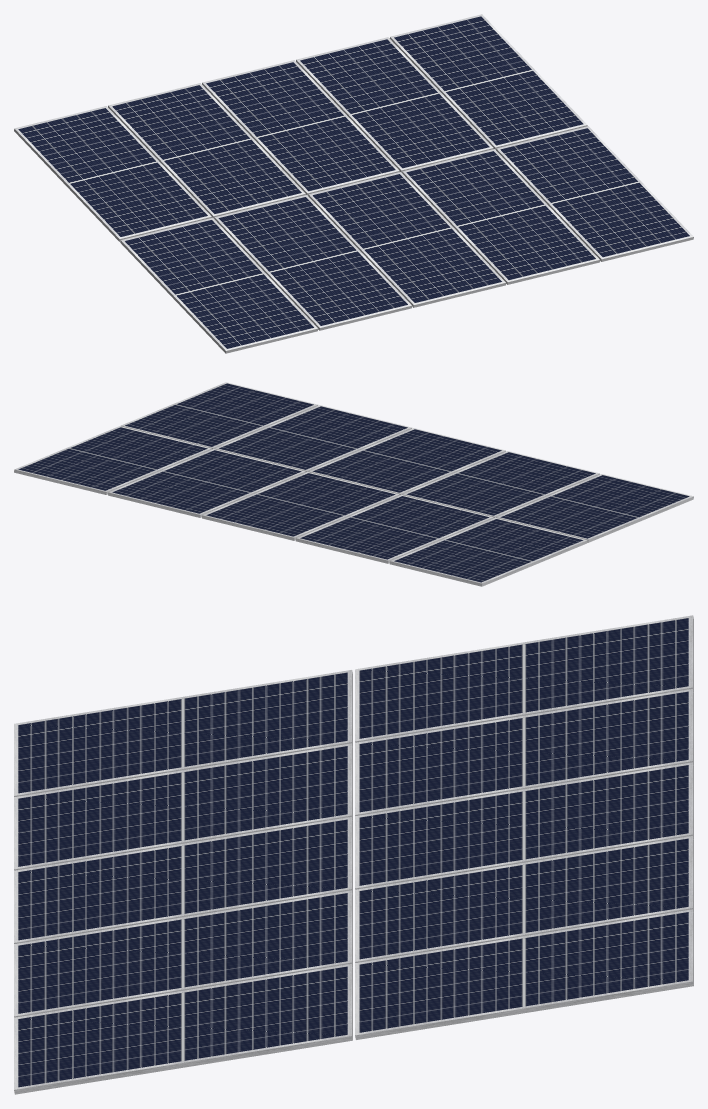
File: A01_PV_Array.fbx
The picture shows the model from 3 angles, top to bottom: view 1: azimuth 30°, elevation 25°; view 2: azimuth 150°, elevation 25°; view 3: azimuth 270°, elevation 25°; orthographic projection. The views are drawn at different scales.
Visible parts, largest first — view 1: PV_R1_C1, PV_R1_C2, PV_R1_C3, PV_R1_C5, PV_R1_C4, PV_R2_C1, PV_R2_C4, PV_R2_C5, PV_R2_C3, PV_R2_C2; view 2: PV_R2_C1, PV_R2_C3, PV_R2_C4, PV_R2_C5, PV_R2_C2, PV_R1_C1, PV_R1_C3, PV_R1_C5, PV_R1_C2, PV_R1_C4; view 3: PV_R2_C5, PV_R1_C5, PV_R1_C1, PV_R1_C3, PV_R1_C4, PV_R2_C1, PV_R2_C2, PV_R2_C4, PV_R1_C2, PV_R2_C3.
Boxes of the visible parts, x1,y1,x2,y2 form: PV_R1_C1: (120,217,318,353); PV_R1_C2: (214,195,411,330); PV_R1_C3: (308,172,505,307); PV_R1_C5: (496,126,693,261); PV_R1_C4: (402,149,599,284); PV_R2_C1: (14,106,211,241); PV_R2_C4: (296,37,493,172); PV_R2_C5: (389,14,587,149); PV_R2_C3: (202,60,399,195); PV_R2_C2: (108,83,305,218); PV_R2_C1: (389,517,587,586); PV_R2_C3: (202,472,399,540); PV_R2_C4: (108,449,305,517); PV_R2_C5: (14,426,211,494); PV_R2_C2: (296,495,493,563); PV_R1_C1: (496,474,693,542); PV_R1_C3: (308,428,505,495); PV_R1_C5: (121,382,318,449); PV_R1_C2: (402,451,599,517); PV_R1_C4: (214,405,411,472); PV_R2_C5: (355,909,693,1039); PV_R1_C5: (14,964,352,1094); PV_R1_C1: (14,670,352,797); PV_R1_C3: (14,817,352,943); PV_R1_C4: (14,890,352,1017); PV_R2_C1: (355,615,693,742); PV_R2_C2: (355,689,693,816); PV_R2_C4: (355,836,693,962); PV_R1_C2: (14,743,352,870); PV_R2_C3: (355,762,693,889).
Bounding box in the file's own units: 5.75 × 0.8291 × 4.51.
6 materials, 4 textured.
